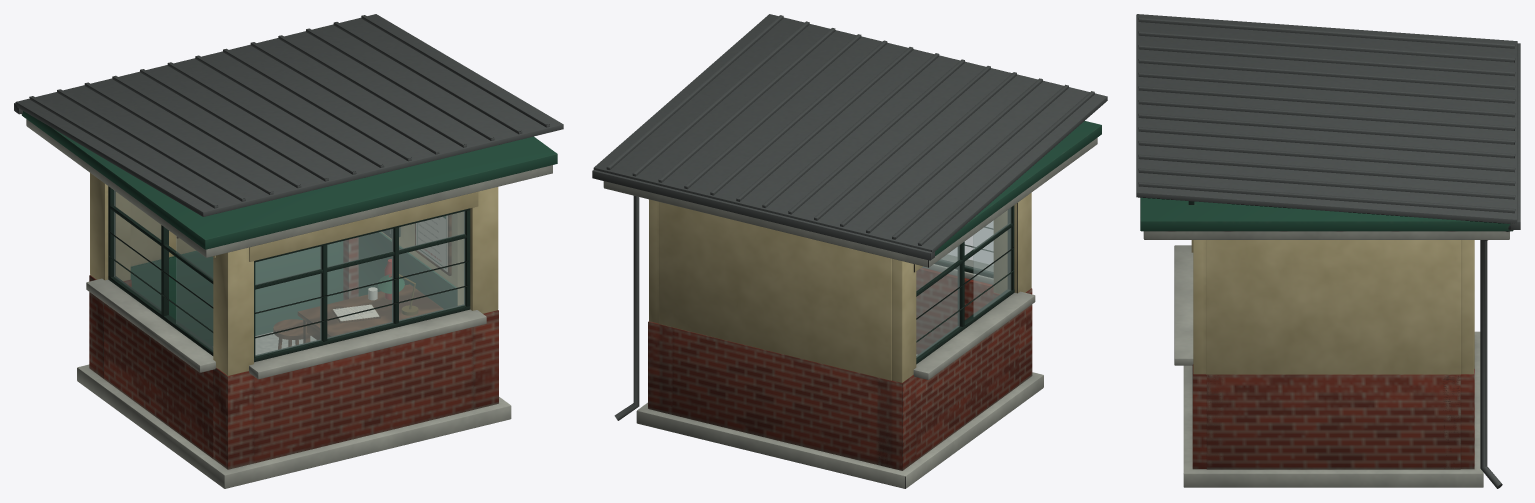
Rendered from CTCC_ENV_Gatehouse.fbx.
3 views of the same model, side by side, from view 1: azimuth 30°, elevation 25°; view 2: azimuth 150°, elevation 25°; view 3: azimuth 270°, elevation 25° (orthographic). The views are drawn at different scales.
Visible parts, largest first — view 1: CTCC_ENV_Gatehouse_LOD0; view 2: CTCC_ENV_Gatehouse_LOD0; view 3: CTCC_ENV_Gatehouse_LOD0.
Boxes of the visible parts, <box> form: CTCC_ENV_Gatehouse_LOD0: <box>14,14,563,488</box>; CTCC_ENV_Gatehouse_LOD0: <box>592,14,1107,488</box>; CTCC_ENV_Gatehouse_LOD0: <box>1136,14,1520,488</box>.
Size of what is drawn, in the model's own units: 3.72 by 3.03 by 3.38.
